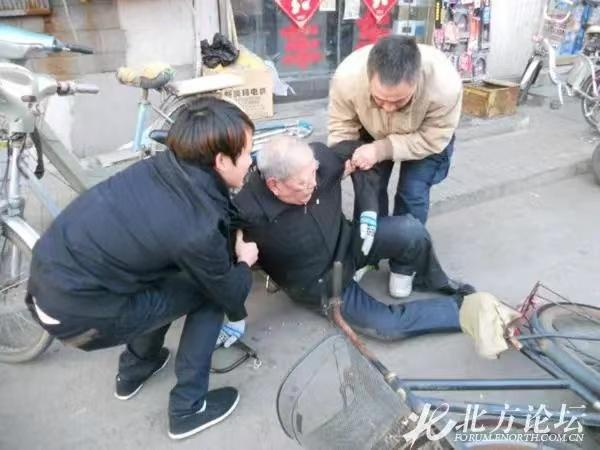bending: (35, 104, 257, 444), (241, 141, 492, 340), (330, 30, 462, 245)
